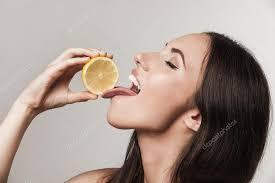lemon: (82, 56, 118, 96)
